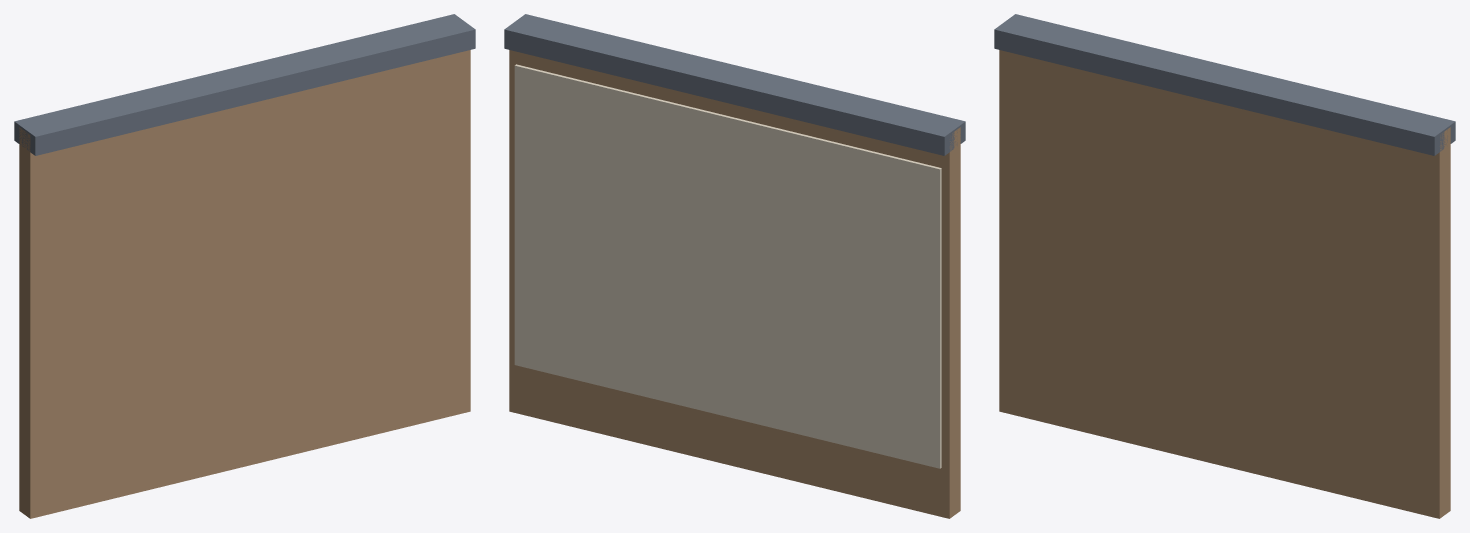
File: wall-panel.glb
3 renders of one model, left to right at view 1: azimuth 30°, elevation 25°; view 2: azimuth 150°, elevation 25°; view 3: azimuth 330°, elevation 25°, orthographic.
Parts seen in each view (by area): view 1: world; view 2: world; view 3: world.
Boxes of the visible parts, x1,y1,x2,y2 form: world: (14, 14, 475, 518); world: (504, 14, 965, 518); world: (994, 14, 1455, 518).
Bounding box in the file's own units: 6 × 5.03 × 0.5.
